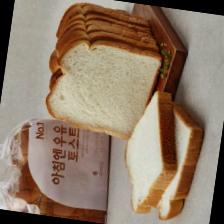bread: (40, 0, 169, 141), (116, 87, 188, 217)
